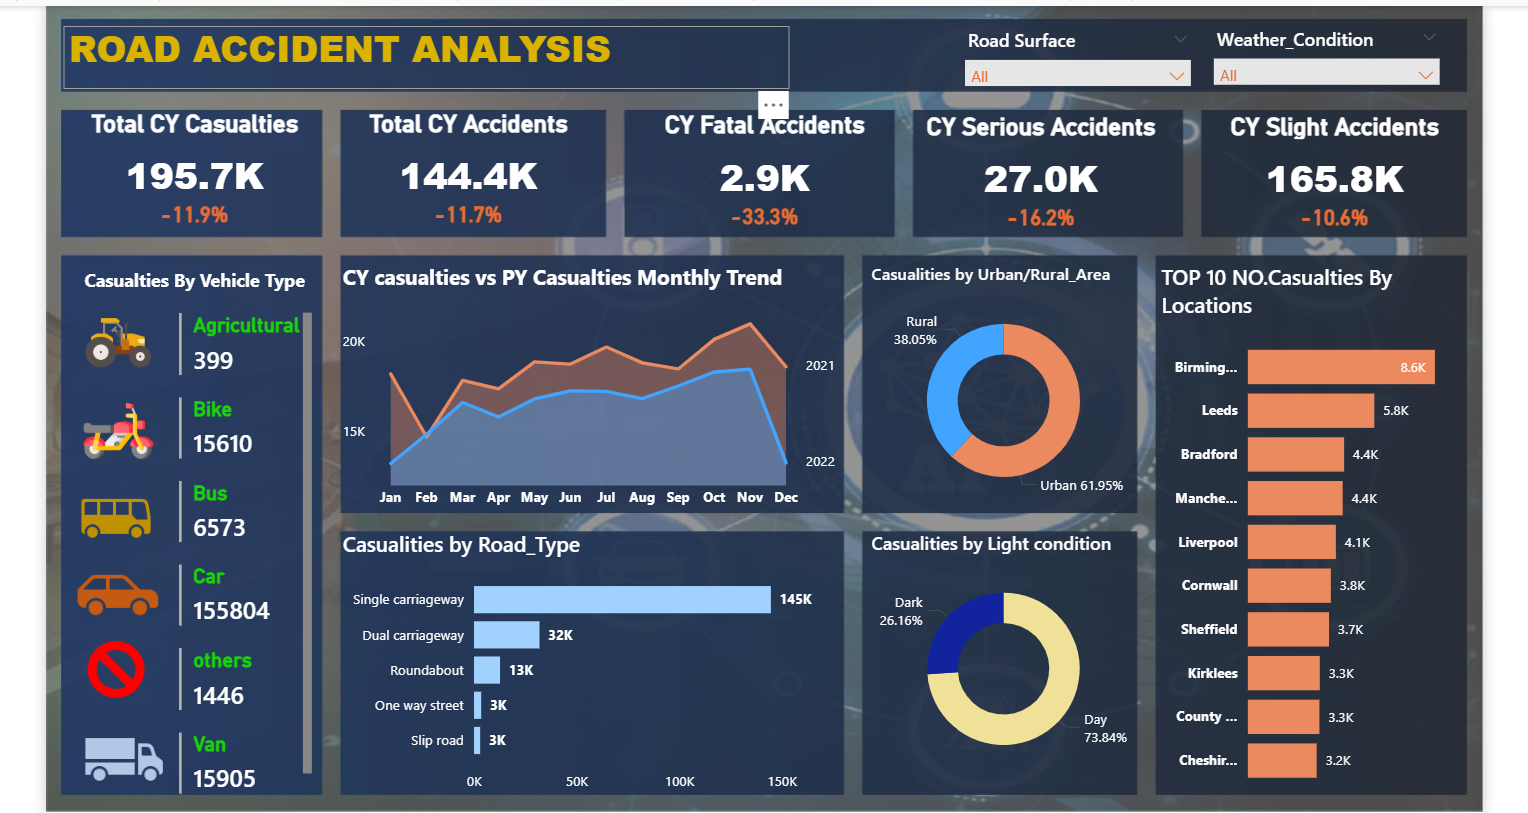

Layout of this report page (visuals, bound fields, positions):
{"tool":"powerbi","page":{"name":"Page 1","canvas":[1280,720],"ordinal":0},"visuals":[{"type":"card","title":"Total CY Casualties","fields":{"Values":["Data.CY casualities"]},"box":[15.7,92.9,234,94.1],"z":0,"group":"g1"},{"type":"group","id":"g1","title":"Group 1","box":[15.7,92.9,234,112.2],"z":0},{"type":"card","title":"Total CY Accidents","fields":{"Values":["Data.CY Accidents"]},"box":[259.4,92.9,234,94.1],"z":0,"group":"g2"},{"type":"card","title":"CY Fatal Accidents","fields":{"Values":["Data.CY casualities"]},"box":[523.7,93.8,234,94.1],"z":0,"group":"g3"},{"type":"card","title":"CY Serious Accidents","fields":{"Values":["Data.CY casualities"]},"box":[768.9,94.3,234,94.1],"z":0,"group":"g4"},{"type":"card","title":"CY Slight Accidents","fields":{"Values":["Data.CY casualities"]},"box":[1030.5,94.3,234,94.1],"z":0,"group":"g5"},{"type":"group","id":"g2","title":"Group 1","box":[259.4,92.9,234,112.2],"z":1000},{"type":"card","fields":{"Values":["Data.YOY growth"]},"box":[85.7,168.9,92.9,36.2],"z":1000,"group":"g1"},{"type":"card","fields":{"Values":["Data.YOY Accidents"]},"box":[329.4,168.9,92.9,36.2],"z":1000,"group":"g2"},{"type":"card","fields":{"Values":["Data.YOY growth"]},"box":[593.7,169.8,92.9,36.2],"z":1000,"group":"g3"},{"type":"card","fields":{"Values":["Data.YOY growth"]},"box":[838.9,170.3,92.9,36.2],"z":1000,"group":"g4"},{"type":"card","fields":{"Values":["Data.YOY growth"]},"box":[1100.5,170.3,92.9,36.2],"z":1000,"group":"g5"},{"type":"group","id":"g3","title":"Group 1","box":[523.7,93.8,233.7,112.5],"z":2000},{"type":"group","id":"g4","title":"Group 1","box":[768.9,94.3,233.2,113.9],"z":3000},{"type":"group","id":"g5","title":"Group 1","box":[1030.5,94.3,234,112.2],"z":4000},{"type":"textbox","box":[16,17.8,646.1,57],"z":5000},{"type":"multiRowCard","fields":{"Values":["Data.Vehicle_Type (groups)","Data.CY casualities"]},"box":[113.9,268.7,128.1,439.6],"z":6000},{"type":"image","box":[30.3,268.7,69.4,62.3],"z":7000},{"type":"image","box":[30.3,347.1,69.4,62.3],"z":8000},{"type":"image","box":[5.3,421.8,113.9,67.6],"z":9000},{"type":"image","box":[0,485.9,128.1,78.3],"z":10000},{"type":"image","box":[5.3,558.9,113.9,64.1],"z":11000},{"type":"image","box":[5.3,633.6,128.1,74.8],"z":12000},{"type":"textbox","box":[15.9,228,233.7,40.4],"z":13000},{"type":"areaChart","title":"CY casualties vs PY Casualties Monthly Trend","fields":{"Category":["calendar.Month"],"Series":["calendar.Date.Variation.Date Hierarchy.Year"],"Y":["Sum(Data.Number_of_Casualties)"]},"box":[259.7,228,451.6,228],"z":14000},{"type":"donutChart","title":"Casualities by Urban/Rural_Area","fields":{"Category":["Data.Urban_or_Rural_Area"],"Y":["Data.CY casualities"]},"box":[730,228,245.3,226.5],"z":15000},{"type":"donutChart","title":" Casualities by Light condition","fields":{"Category":["Data.Light_Conditions (groups)"],"Y":["Data.CY casualities"]},"box":[730,466,245.3,226.5],"z":16000},{"type":"barChart","title":"Casualities by Road_Type","fields":{"Category":["Data.Road_Type"],"Y":["Data.CY casualities"]},"box":[259.7,466,448.7,242.4],"z":17000},{"type":"map","title":"Casualties By Locations","fields":{"Category":["Data.Local_Authority_(District)"],"X":["Data.Longitude"],"Y":["Data.Latitude"]},"box":[991.2,227.5,272.5,481.2],"z":18000},{"type":"slicer","fields":{"Values":["Data.Weather_Conditions (groups)"]},"box":[1030,12.9,221.4,57.1],"z":19000},{"type":"slicer","fields":{"Values":["Data.Road_Surface_Conditions (groups)"]},"box":[808.6,14.3,221.4,57.1],"z":20000}]}

Visuals, with their boxes on the page's 1280x720 design canvas (x1, y1, x2, y2). These are canvas units, not pixel positions in the 1528x813 screenshot, which may show the page scaled, cropped or inside an application window:
"Total CY Casualties" card: bbox=(16, 93, 250, 187)
"Group 1" group: bbox=(16, 93, 250, 205)
"Total CY Accidents" card: bbox=(259, 93, 493, 187)
"CY Fatal Accidents" card: bbox=(524, 94, 758, 188)
"CY Serious Accidents" card: bbox=(769, 94, 1003, 188)
"CY Slight Accidents" card: bbox=(1030, 94, 1264, 188)
"Group 1" group: bbox=(259, 93, 493, 205)
card - Data.YOY growth: bbox=(86, 169, 179, 205)
card - Data.YOY Accidents: bbox=(329, 169, 422, 205)
card - Data.YOY growth: bbox=(594, 170, 687, 206)
card - Data.YOY growth: bbox=(839, 170, 932, 206)
card - Data.YOY growth: bbox=(1100, 170, 1193, 206)
"Group 1" group: bbox=(524, 94, 757, 206)
"Group 1" group: bbox=(769, 94, 1002, 208)
"Group 1" group: bbox=(1030, 94, 1264, 206)
textbox: bbox=(16, 18, 662, 75)
multiRowCard - Data.Vehicle_Type (groups) x Data.CY casualities: bbox=(114, 269, 242, 708)
image: bbox=(30, 269, 100, 331)
image: bbox=(30, 347, 100, 409)
image: bbox=(5, 422, 119, 489)
image: bbox=(0, 486, 128, 564)
image: bbox=(5, 559, 119, 623)
image: bbox=(5, 634, 133, 708)
textbox: bbox=(16, 228, 250, 268)
"CY casualties vs PY Casualties Monthly Trend" areaChart: bbox=(260, 228, 711, 456)
"Casualities by Urban/Rural_Area" donutChart: bbox=(730, 228, 975, 454)
" Casualities by Light condition" donutChart: bbox=(730, 466, 975, 692)
"Casualities by Road_Type" barChart: bbox=(260, 466, 708, 708)
"Casualties By Locations" map: bbox=(991, 228, 1264, 709)
slicer - Data.Weather_Conditions (groups): bbox=(1030, 13, 1251, 70)
slicer - Data.Road_Surface_Conditions (groups): bbox=(809, 14, 1030, 71)
